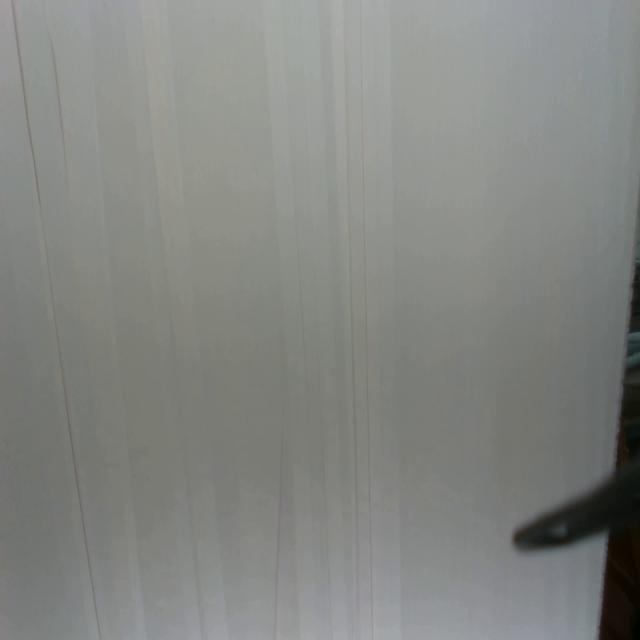crease: (12, 1, 104, 640), (137, 0, 207, 640), (282, 7, 342, 640), (342, 1, 399, 640), (46, 11, 70, 180), (271, 442, 285, 639)
